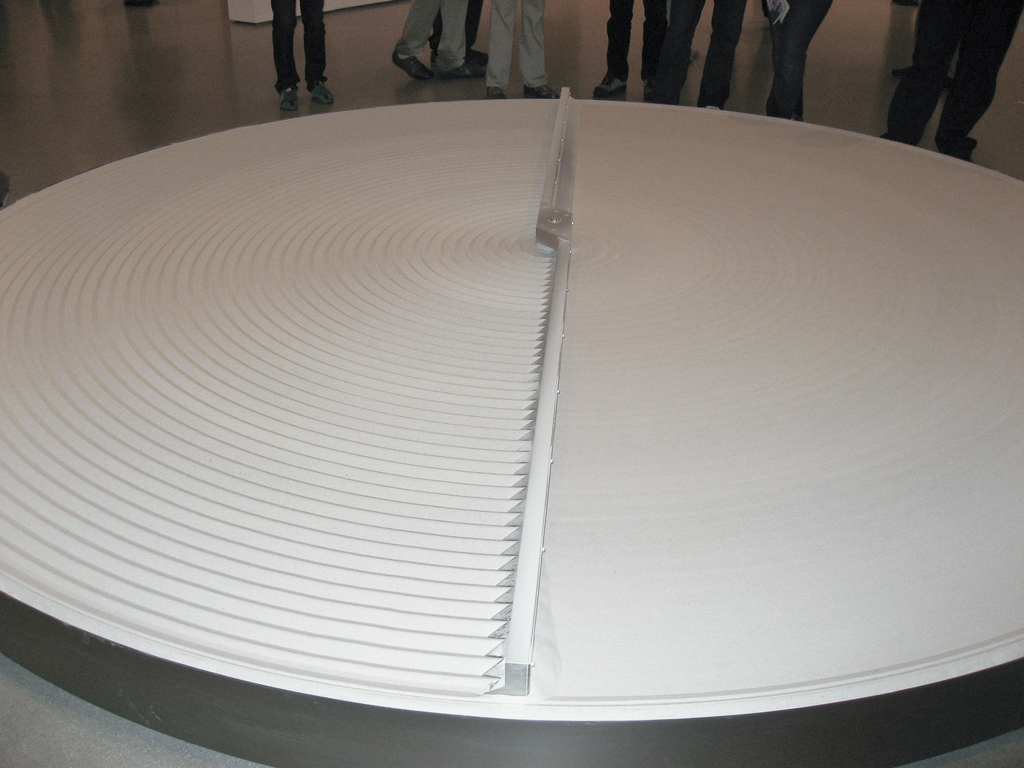person: (589, 0, 687, 102)
